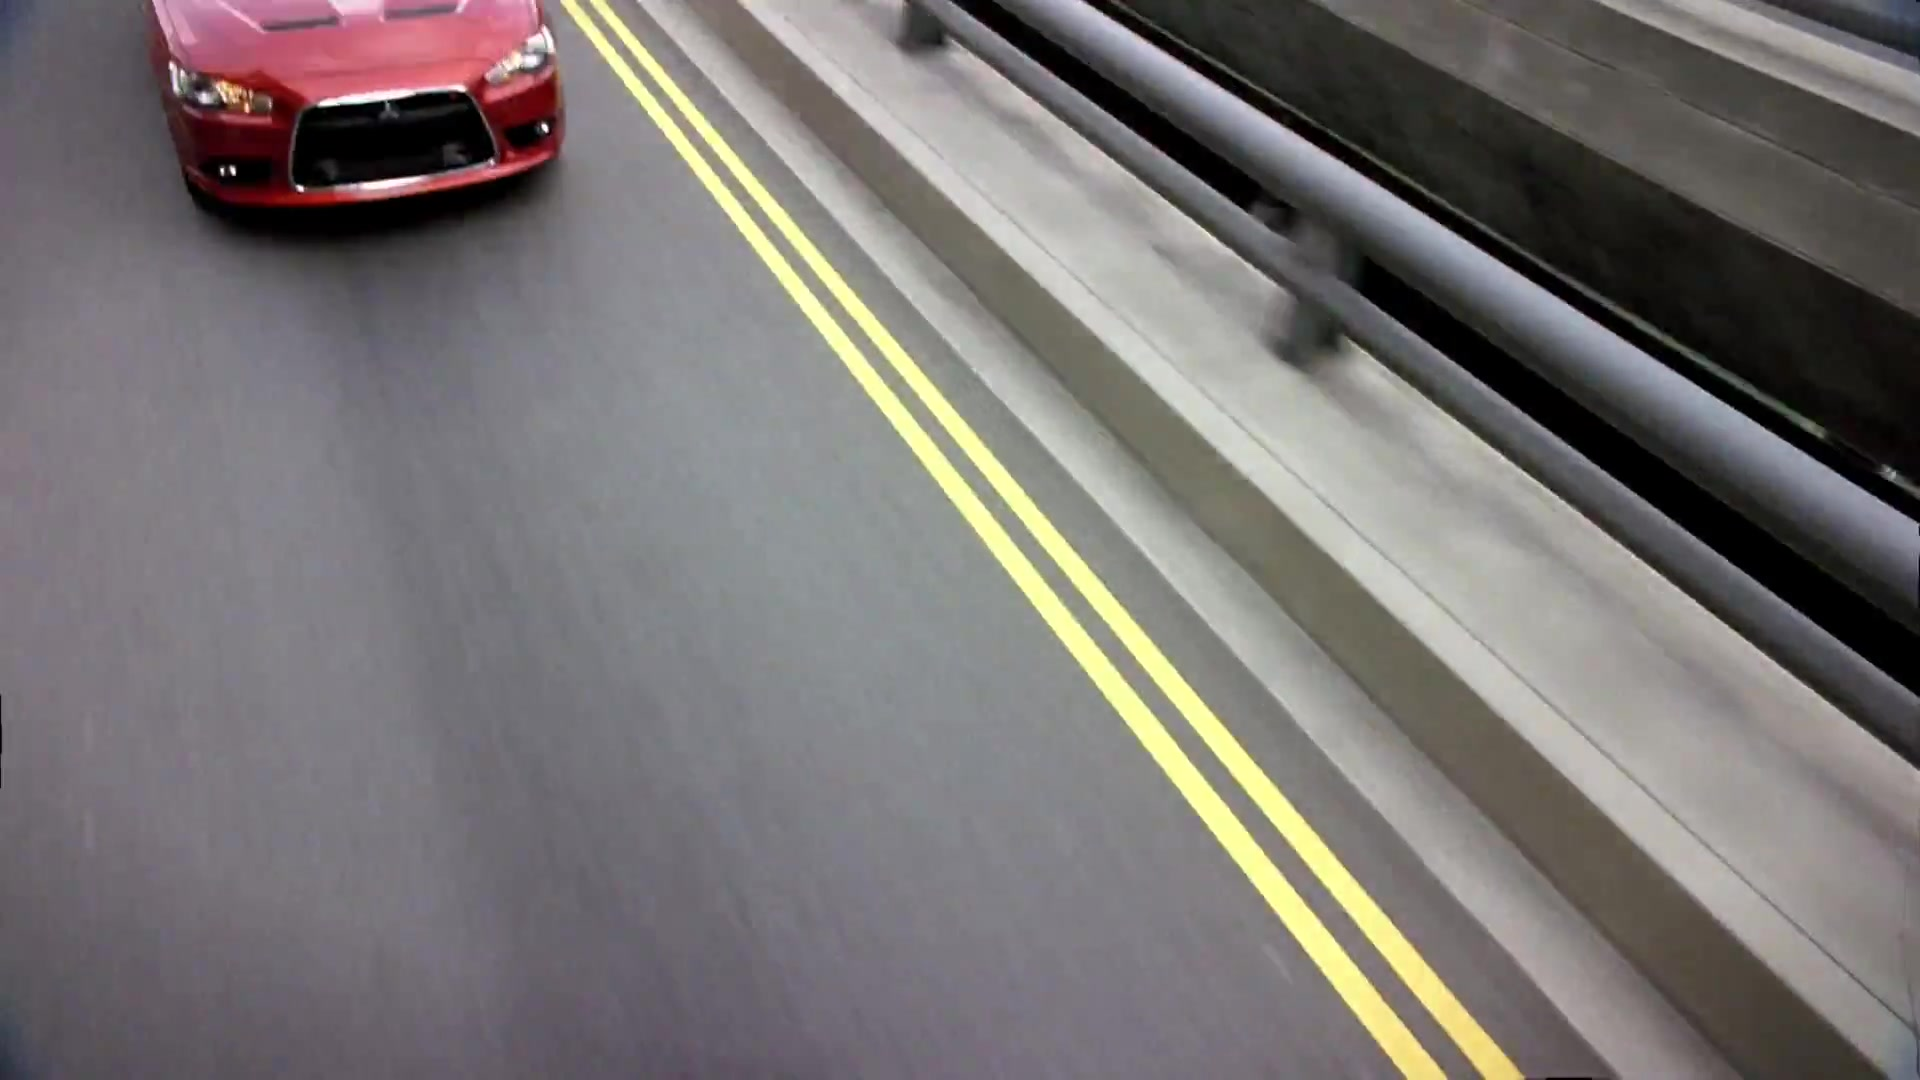car: (153, 1, 574, 228)
